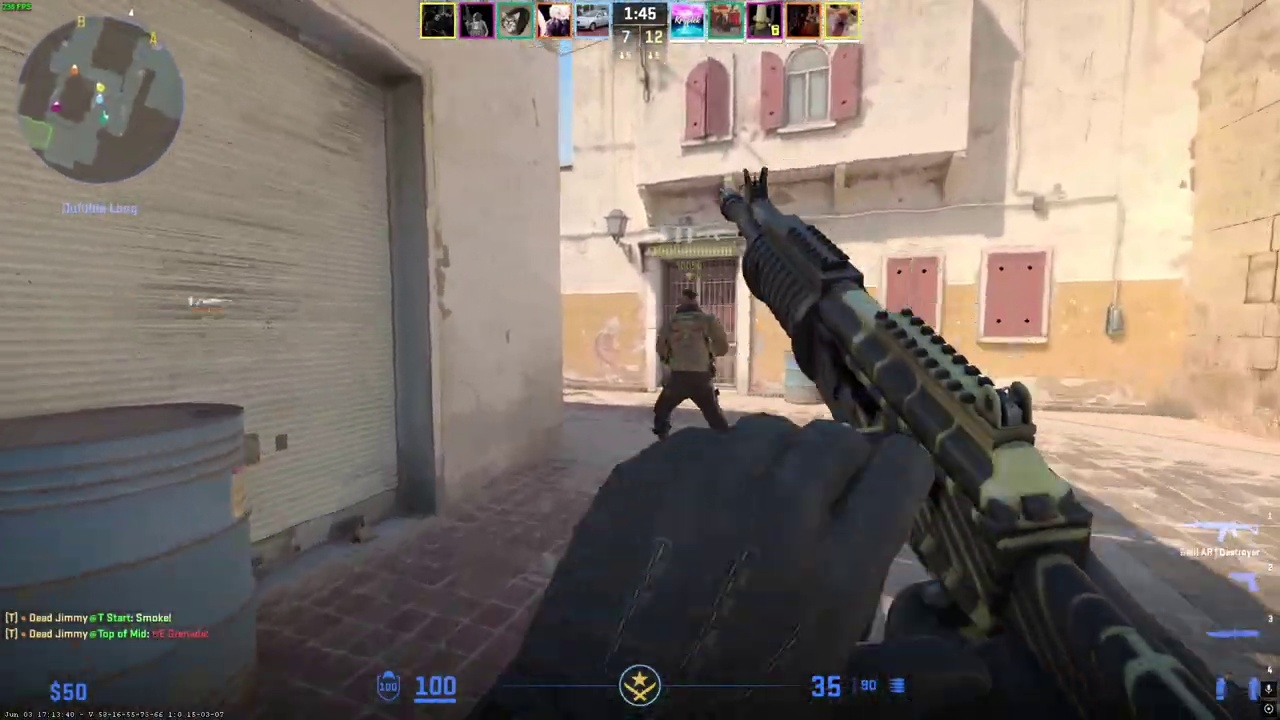Terrorist: (653, 288, 727, 441)
